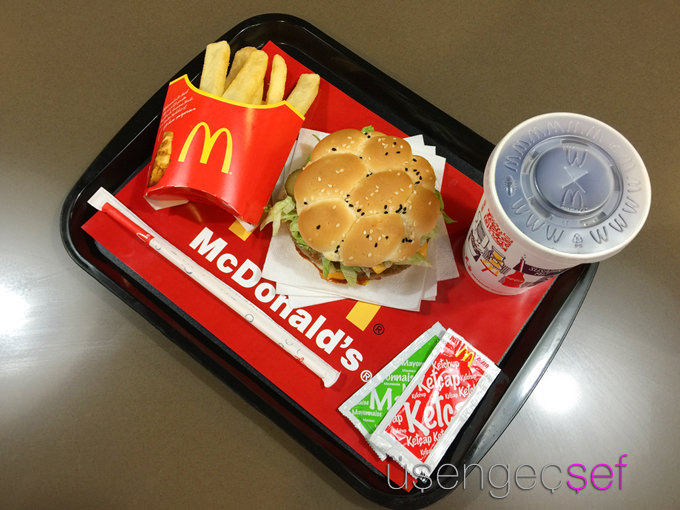mcdonalds: (172, 117, 240, 179)
